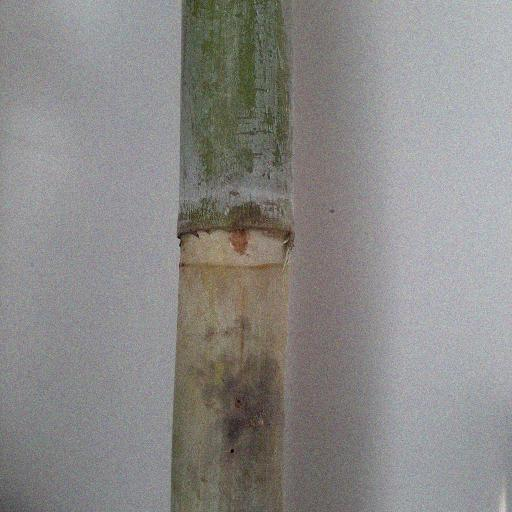Damage_Bud: (226, 230, 250, 256)
